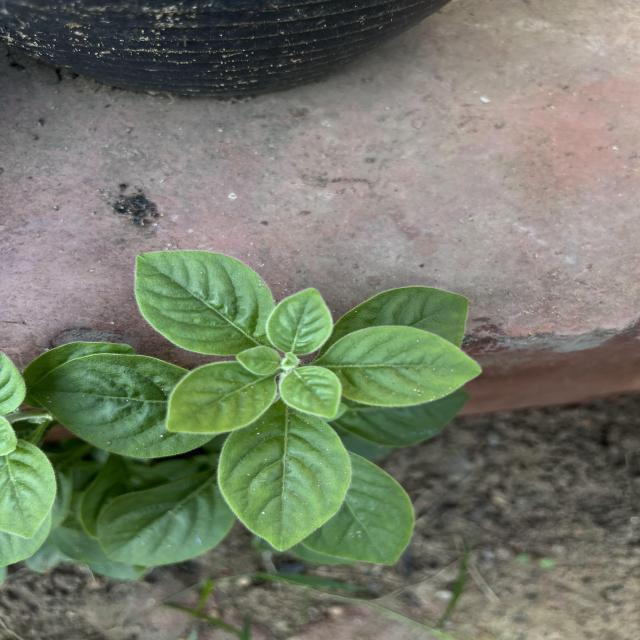Aerva lanata: (26, 350, 230, 462), (213, 404, 355, 554), (131, 248, 281, 358), (311, 284, 472, 370)
